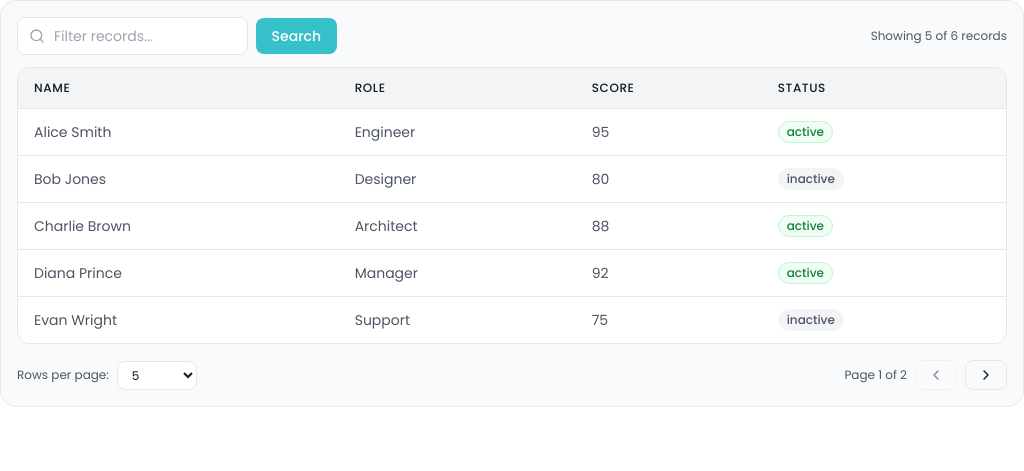
DataTable › updates page size when select changes
Step 1. Select "10" in the dropdown named "Rows per page" → (157,375), box [117,360,197,390]
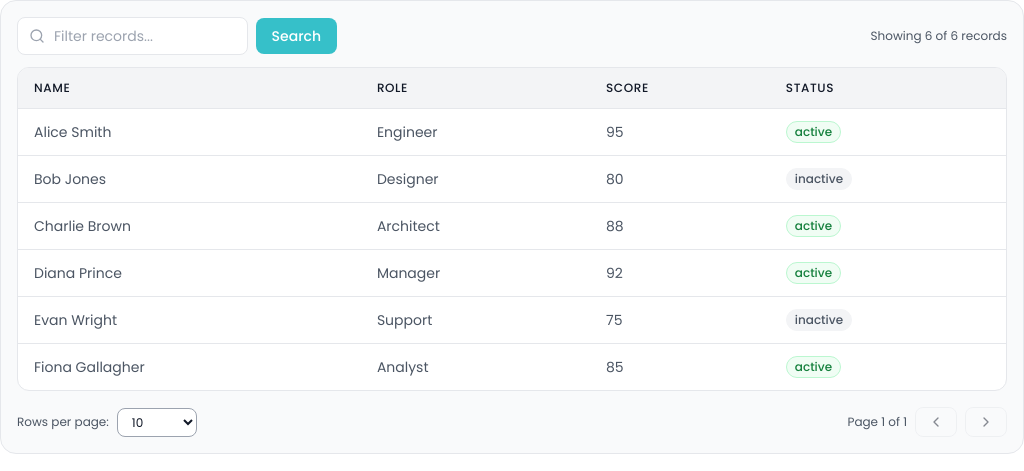
Now the text "Page 1 of 1" is shown, box [847,414,907,430]
Now the text "Fiona Gallagher" is shown, box [18,344,361,390]
